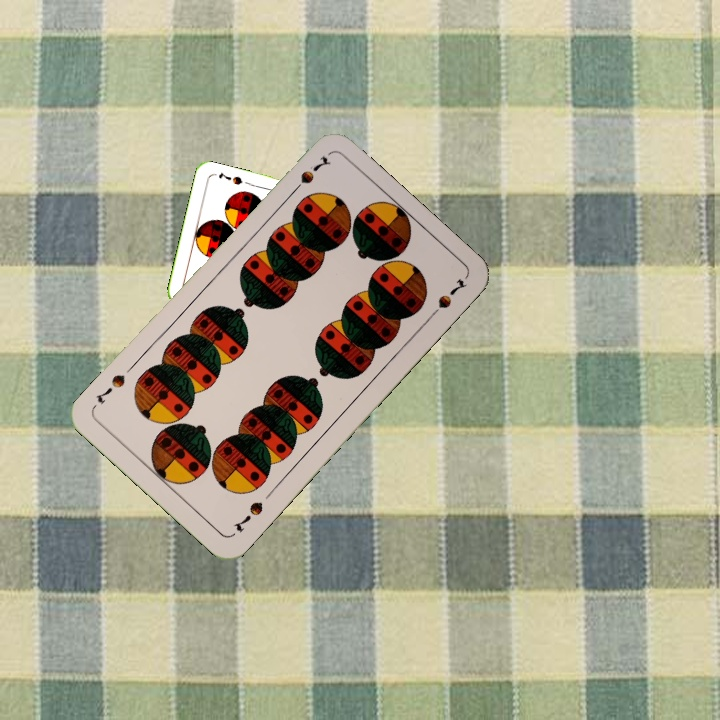S7: (286, 152, 334, 198), (229, 497, 266, 535)
